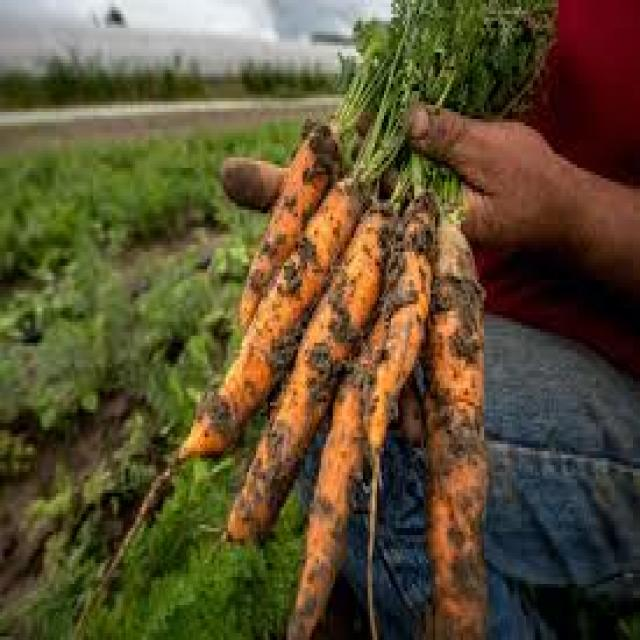organic waste: (277, 189, 435, 636), (221, 196, 389, 531), (172, 172, 366, 458), (63, 406, 302, 636), (419, 203, 489, 636), (351, 0, 497, 178), (235, 112, 340, 325), (100, 237, 191, 433), (0, 300, 100, 462), (438, 0, 556, 119), (0, 144, 79, 276), (328, 14, 400, 150), (79, 133, 177, 231), (186, 213, 238, 374), (384, 150, 463, 213), (165, 126, 221, 213), (219, 150, 279, 203), (219, 119, 291, 157), (230, 199, 263, 231)
